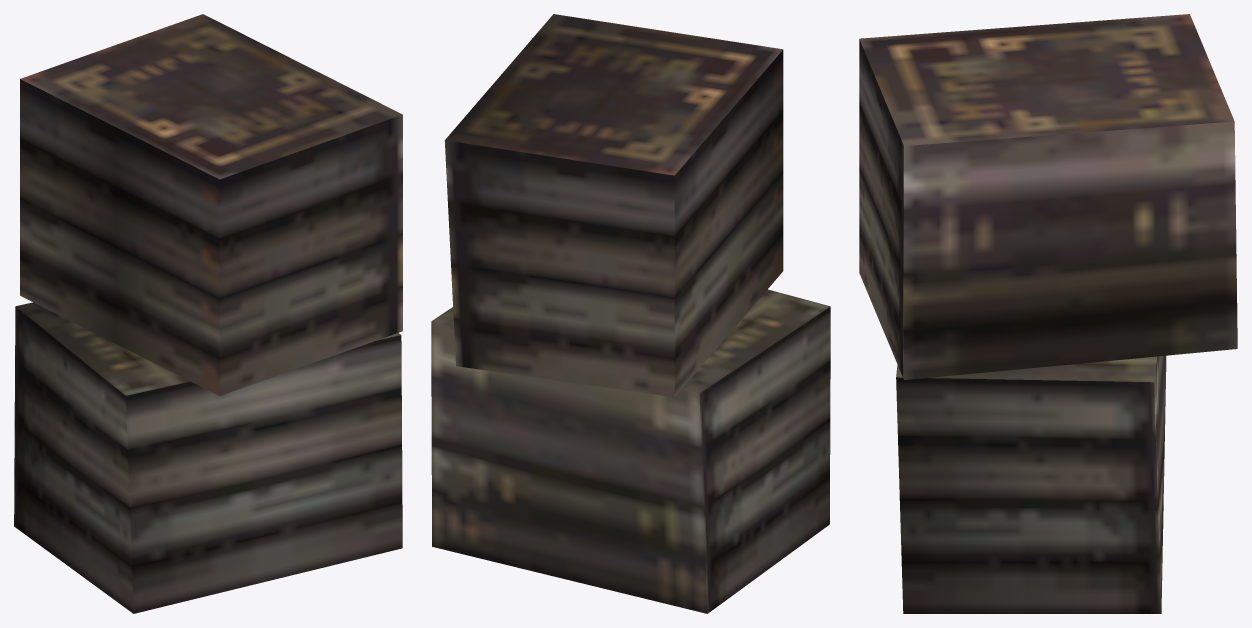
File: OZ_20_wv_books02A.glb
3 renders of one model, left to right at view 1: azimuth 30°, elevation 25°; view 2: azimuth 150°, elevation 25°; view 3: azimuth 270°, elevation 25°, orthographic. The views are drawn at different scales.
Parts seen in each view (by area): view 1: OM_20_wv_books02A; view 2: OM_20_wv_books02A; view 3: OM_20_wv_books02A.
Part boxes in pixels (x1,y1,x2,y2): OM_20_wv_books02A: (14,14,402,613); OM_20_wv_books02A: (431,14,830,613); OM_20_wv_books02A: (859,14,1237,613).
Size of the model in its own units: 0.4697 by 0.7 by 0.513.
Materials: 1 (1 with a texture image).
